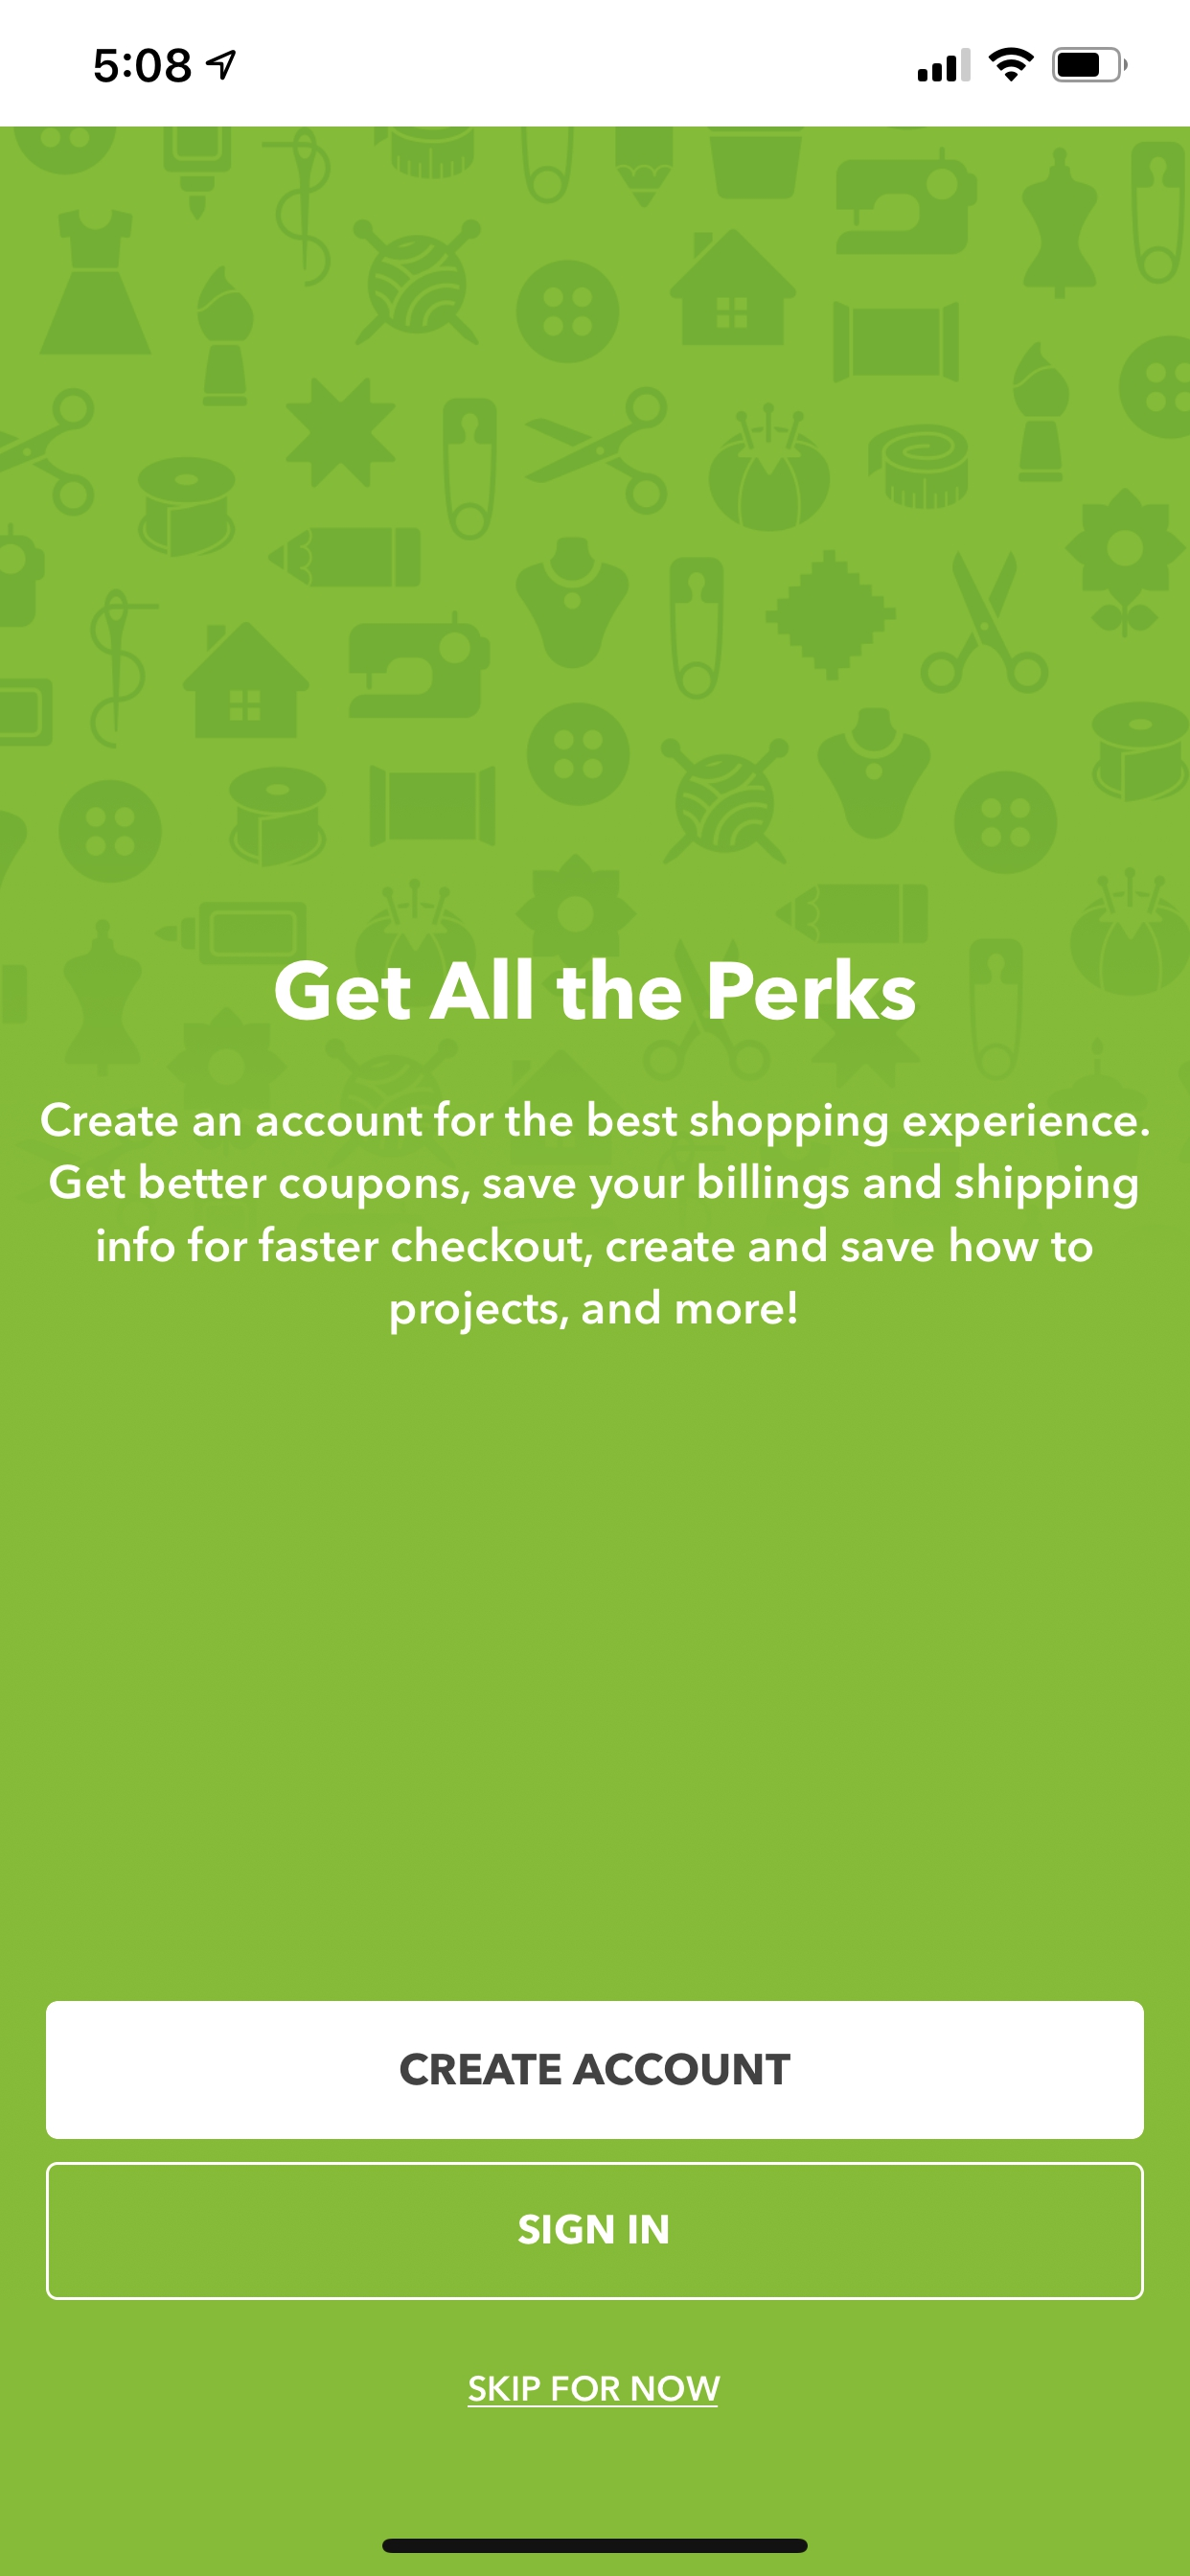BackgroundImage: (2, 128, 1190, 2576)
Text: (39, 1101, 1149, 1336), (274, 958, 916, 1020), (467, 2374, 720, 2407)
TextButton: (46, 2160, 1144, 2300), (46, 1999, 1144, 2139)
UpperTaskBar: (94, 48, 1128, 84)
